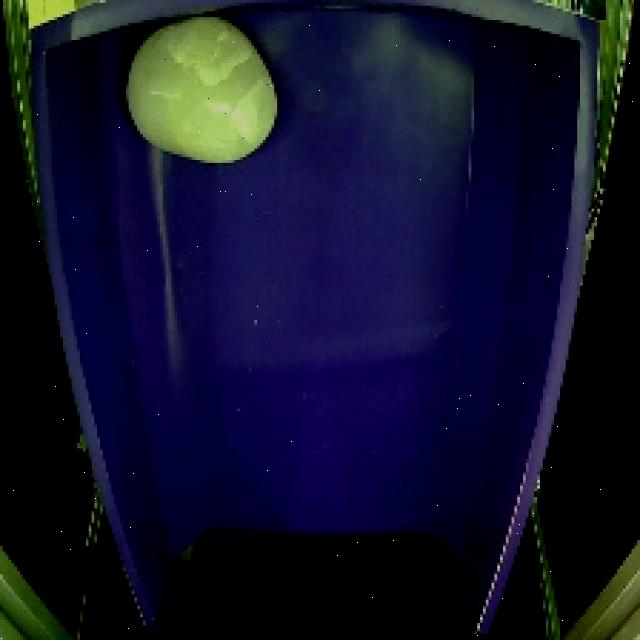cobbles: (112, 10, 287, 178)
